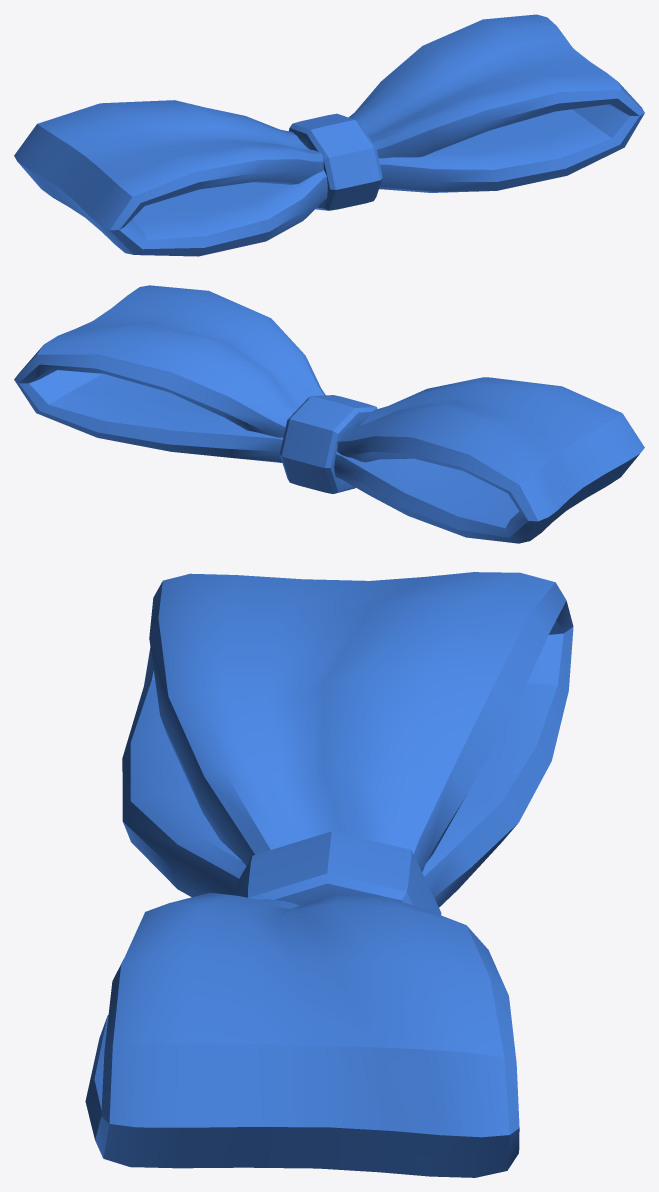
Rendered from ribon1.glb.
3 renders of one model, top to bottom at view 1: azimuth 30°, elevation 25°; view 2: azimuth 150°, elevation 25°; view 3: azimuth 270°, elevation 25°, orthographic. The views are drawn at different scales.
Visible parts, largest first — view 1: Ribbon.003; view 2: Ribbon.003; view 3: Ribbon.003.
Part boxes in pixels (x1,y1,x2,y2): Ribbon.003: (14, 14, 644, 256); Ribbon.003: (14, 285, 644, 543); Ribbon.003: (85, 572, 573, 1177).
Bounding box in the file's own units: 1.87 × 0.3873 × 0.7346.
